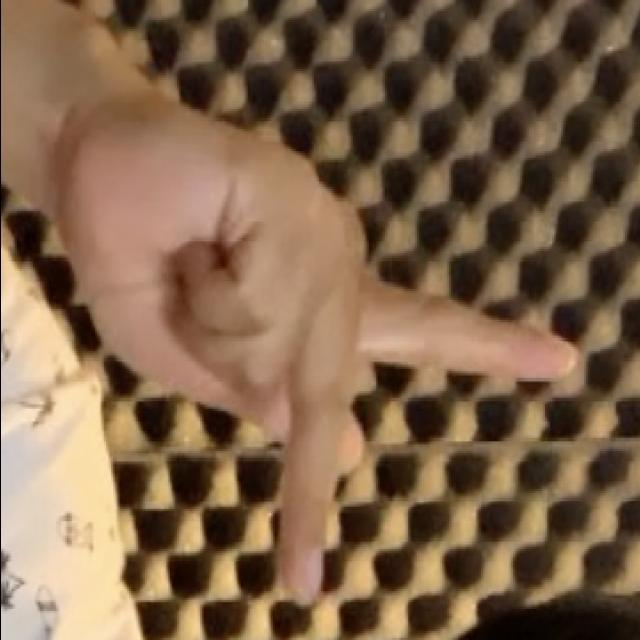P: (47, 80, 584, 612)
